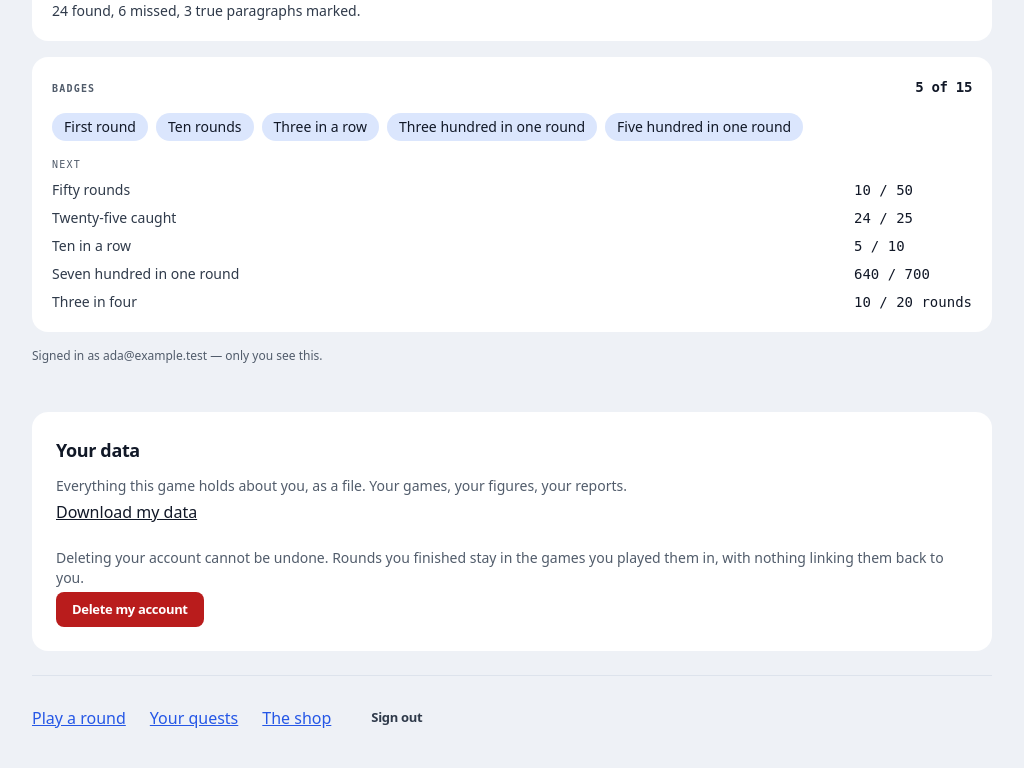
Test: E.7 — your data › lets a player back out
(page scrolled)
Click the button "Delete my account". click: x=130, y=609
box: [56,592,204,627]
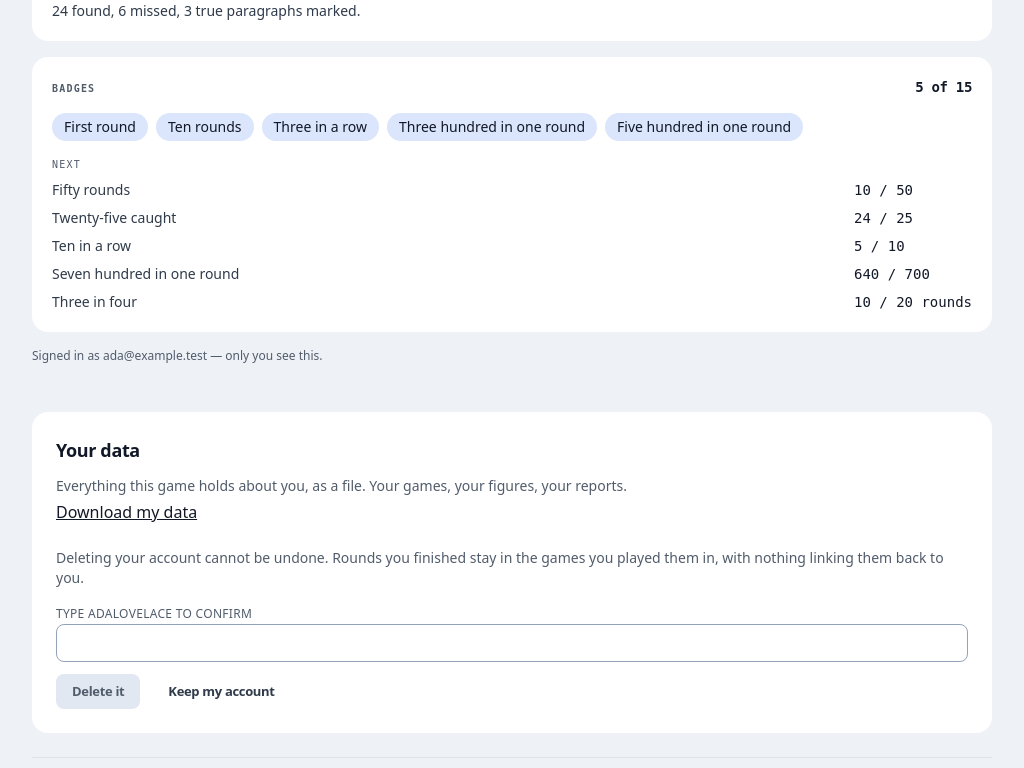
Click the button "Keep my account". click: x=221, y=691
box: [152,674,291,709]
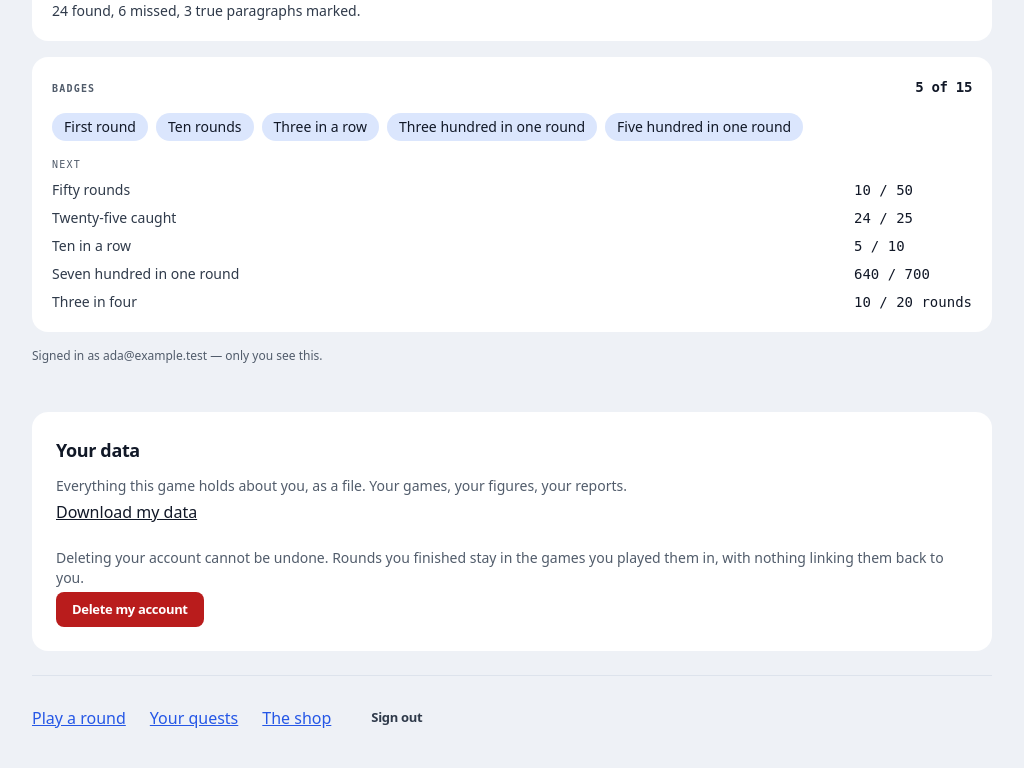
expect the button "Delete it" is gone: met
